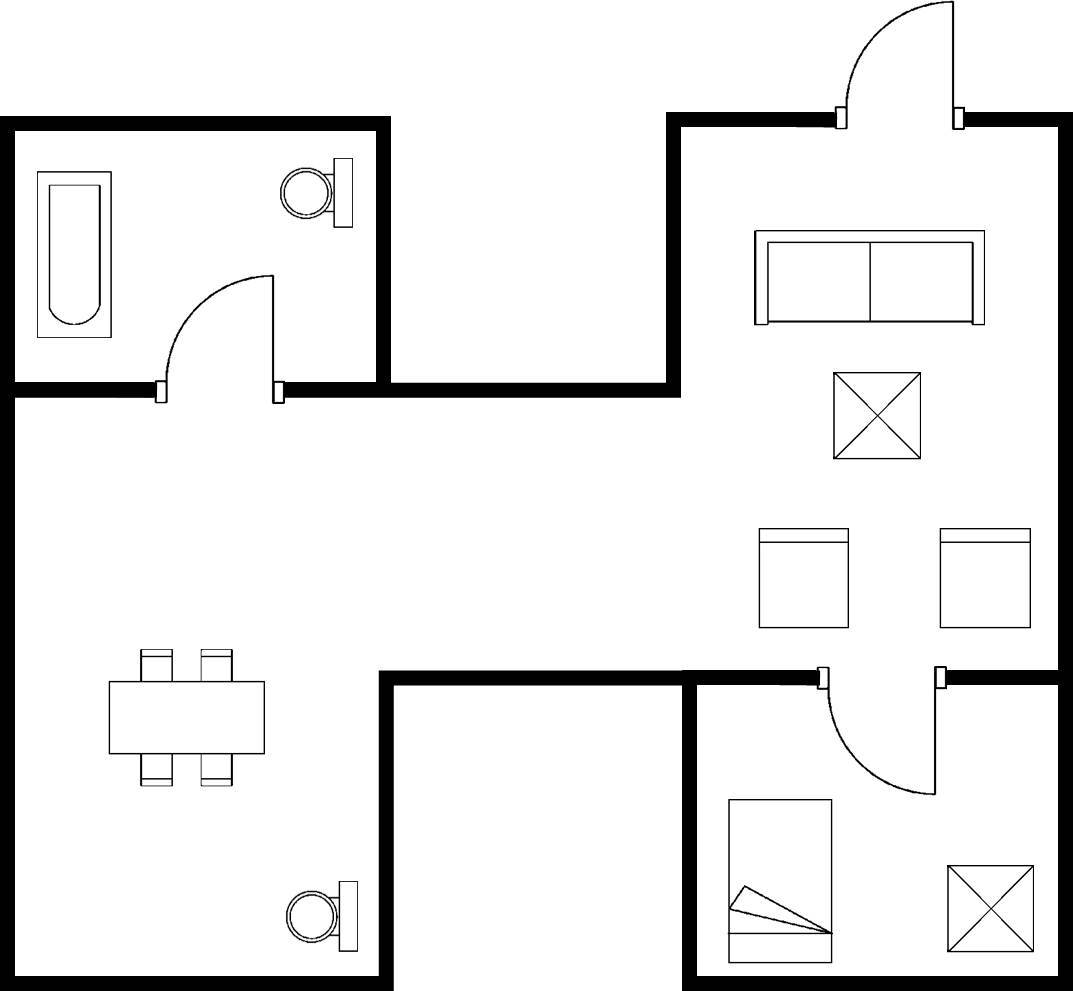bed: (720, 790, 839, 970)
coffee_table: (822, 365, 931, 472), (939, 858, 1041, 960)
dining_table: (98, 640, 274, 794)
large_sink: (278, 871, 365, 961), (274, 151, 359, 238)
large_sofa: (746, 224, 992, 333)
small_sofa: (929, 518, 1043, 637), (752, 519, 857, 638)
tub: (28, 164, 119, 346)
